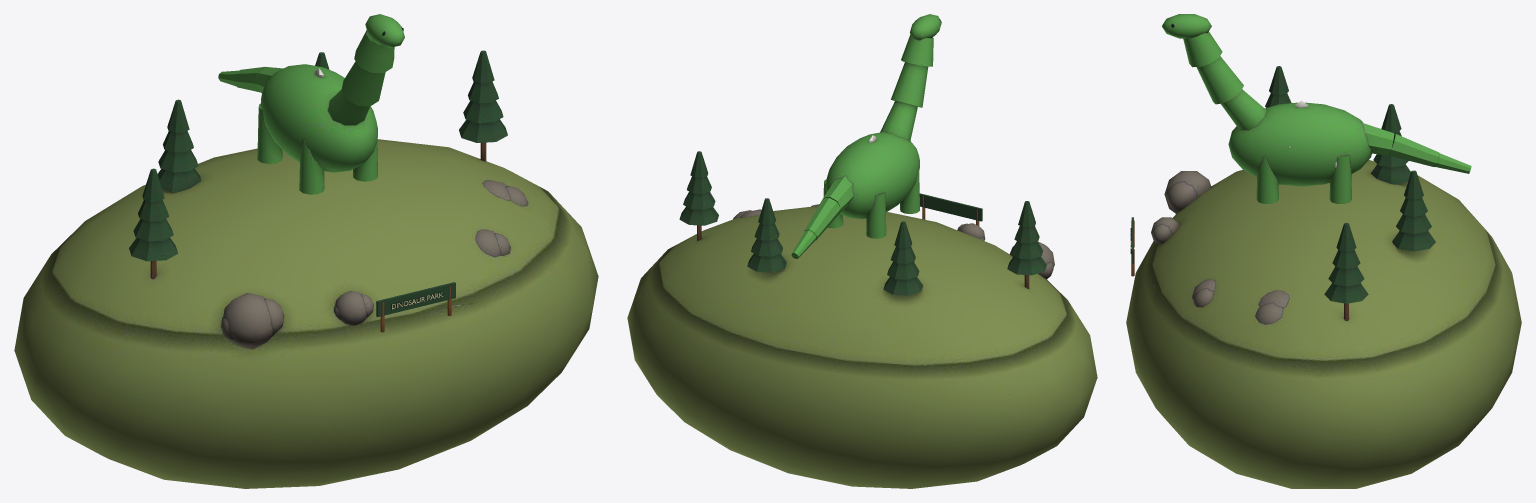
Rendered from dino_park.glb.
The picture shows the model from 3 angles, left to right: view 1: azimuth 30°, elevation 25°; view 2: azimuth 150°, elevation 25°; view 3: azimuth 270°, elevation 25°; orthographic projection. The views are drawn at different scales.
Visible parts, largest first — view 1: dino_park; view 2: dino_park; view 3: dino_park.
Boxes of the visible parts, bbox=[...] form: dino_park: bbox=[14, 14, 598, 488]; dino_park: bbox=[627, 14, 1097, 488]; dino_park: bbox=[1126, 14, 1521, 488].
Size of the model in its own units: 48.4 by 42.32 by 35.2.
1 material, 1 textured.
